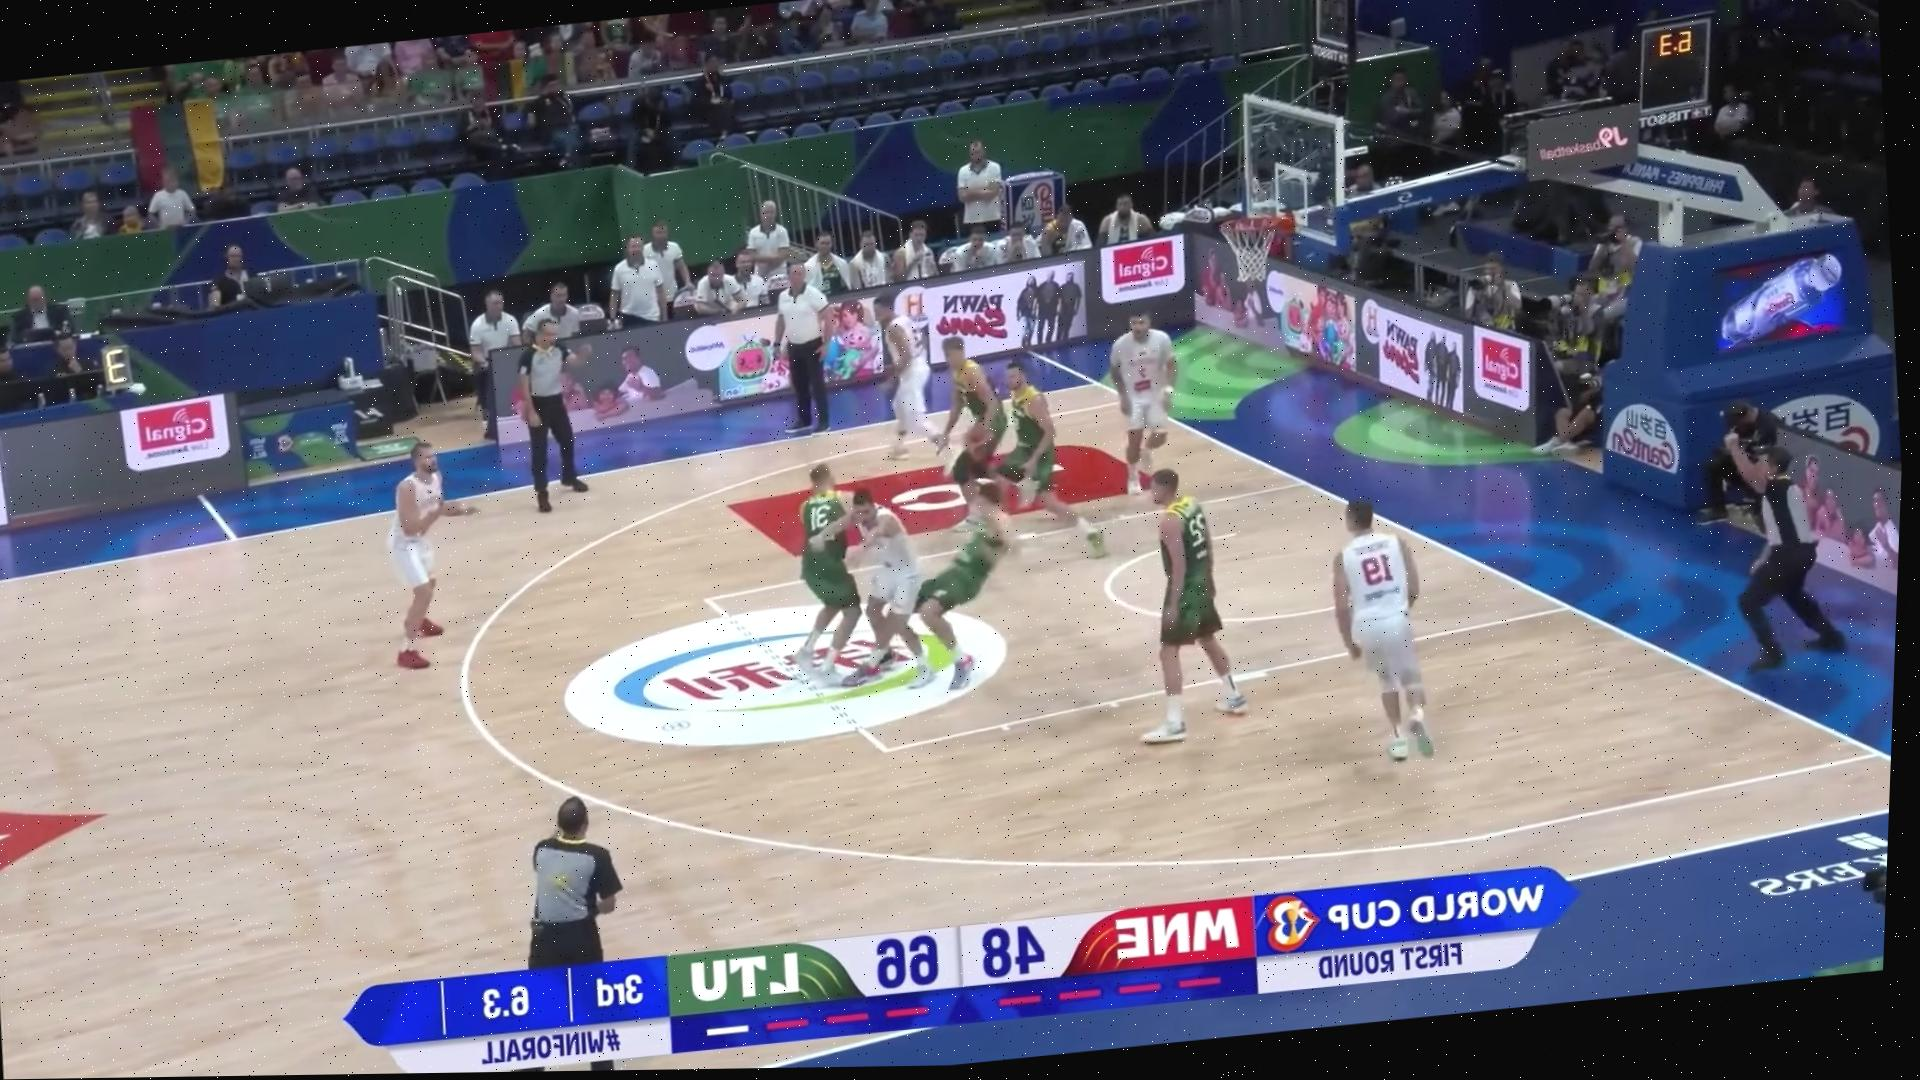foul: (758, 442, 1058, 702)
